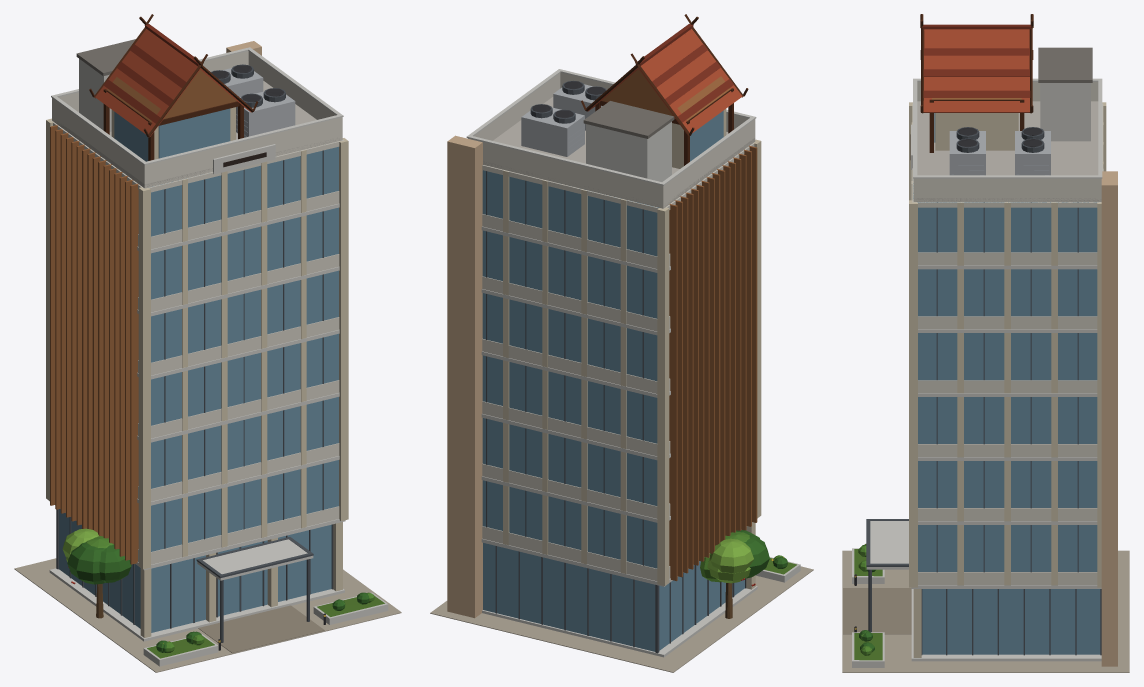
The model's file is shop_3.glb.
3 renders of one model, left to right at view 1: azimuth 30°, elevation 25°; view 2: azimuth 150°, elevation 25°; view 3: azimuth 270°, elevation 25°, orthographic. The views are drawn at different scales.
Visible parts, largest first — view 1: body; view 2: body; view 3: body.
Part boxes in pixels (x1,y1,x2,y2): body: (14,14,401,672); body: (430,14,813,672); body: (842,14,1129,672).
Bounding box in the file's own units: 17.04 × 35.19 × 15.9.
